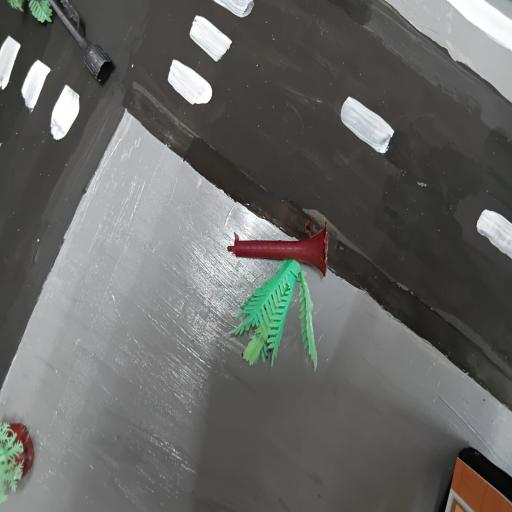fallen trees: (223, 213, 343, 382)
